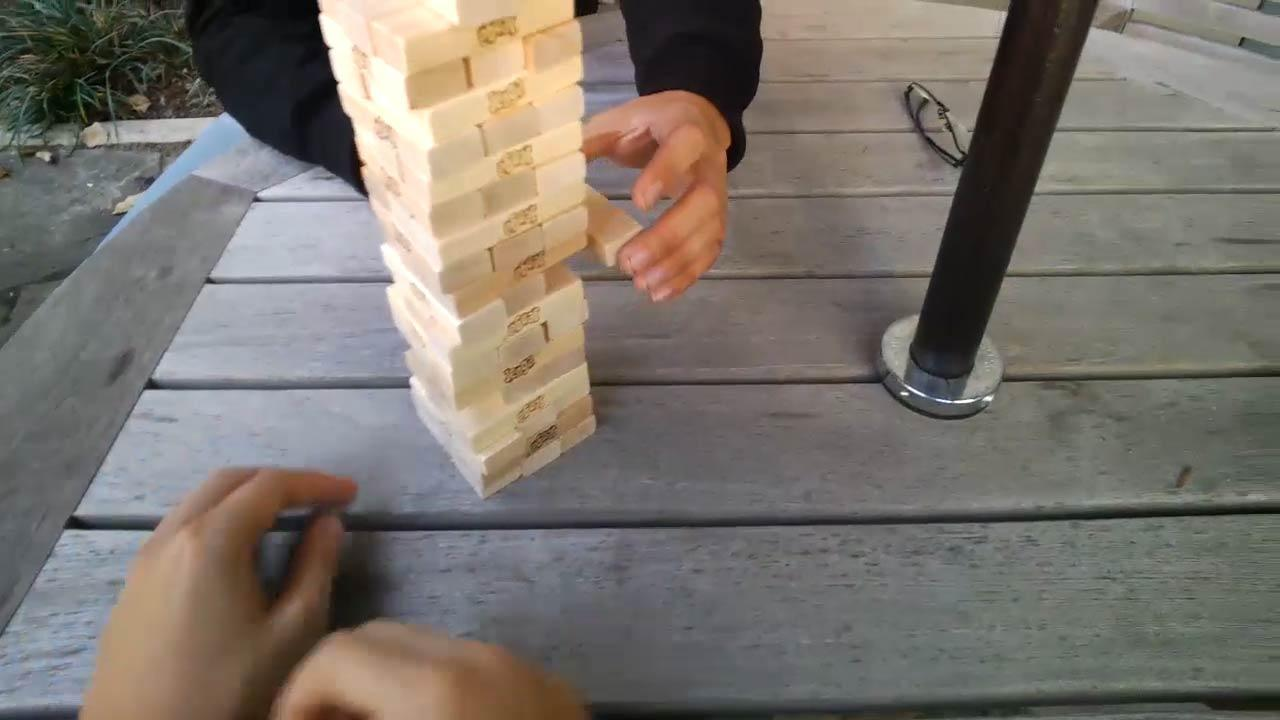hand: (82, 460, 339, 695), (582, 87, 732, 298), (271, 620, 586, 720)
